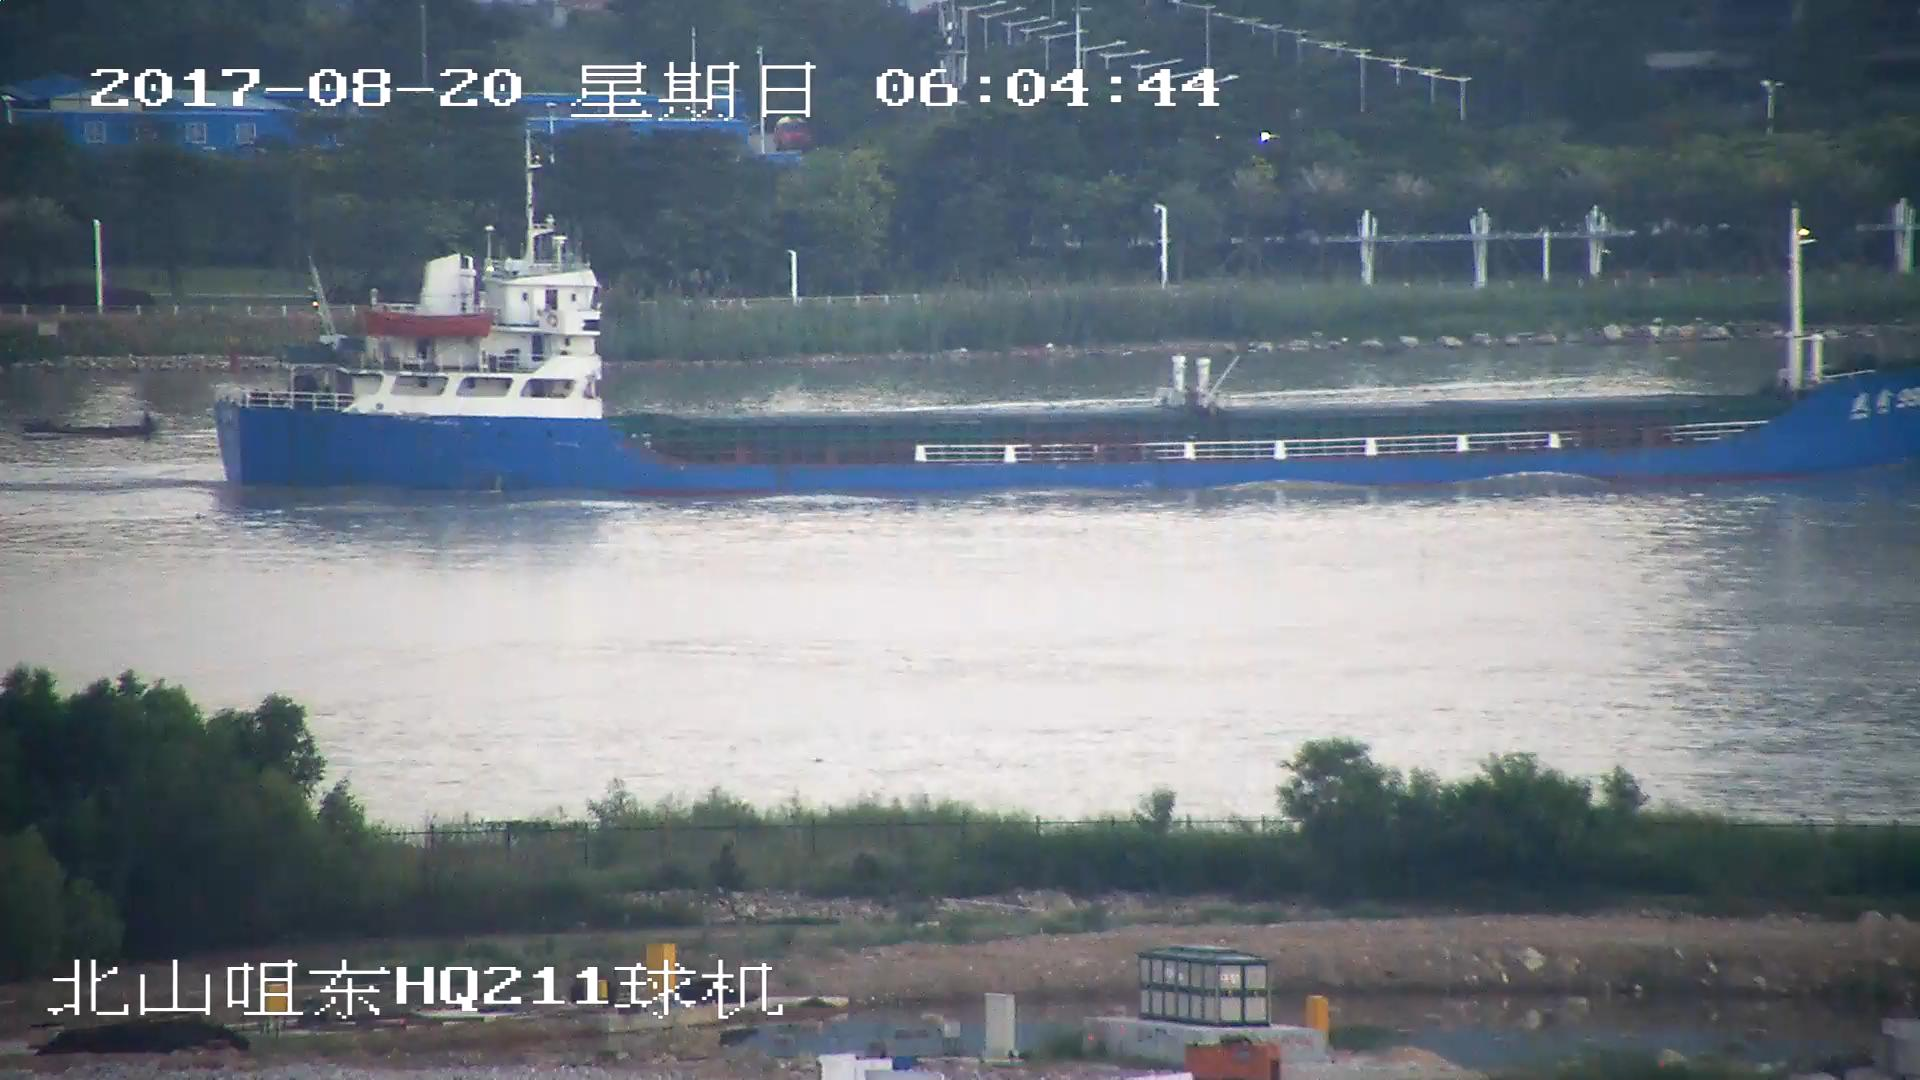fishing boat: (31, 412, 153, 440)
general cargo ship: (217, 162, 1920, 498)
